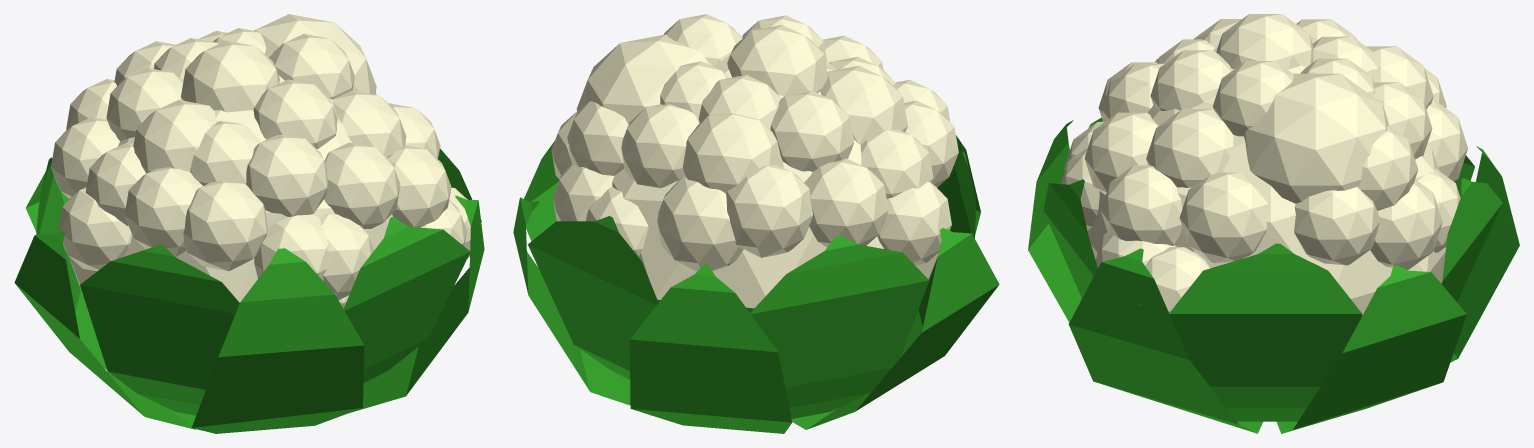
Rendered from cauliflower color.gltf.
3 views of the same model, side by side, from view 1: azimuth 30°, elevation 25°; view 2: azimuth 150°, elevation 25°; view 3: azimuth 270°, elevation 25° (orthographic). The views are drawn at different scales.
Parts seen in each view (by area): view 1: Icosphere.023; view 2: Icosphere.023; view 3: Icosphere.023.
Part boxes in pixels (<box>): Icosphere.023: <box>14,14,484,433</box>; Icosphere.023: <box>513,14,999,433</box>; Icosphere.023: <box>1028,14,1519,433</box>.
Size of the model in its own units: 2.47 by 2.14 by 2.55.
